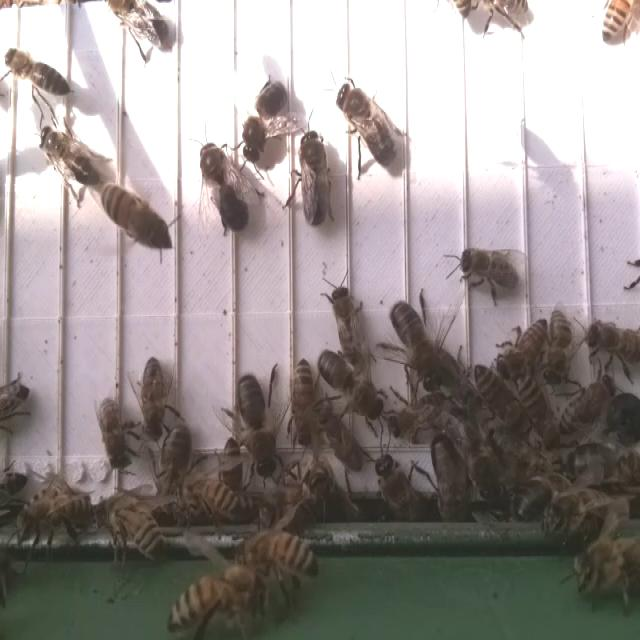Drone: (334, 78, 397, 170), (389, 300, 449, 396), (316, 346, 386, 422), (198, 138, 251, 237), (236, 372, 280, 481), (241, 75, 290, 165), (157, 419, 194, 525), (429, 427, 469, 524), (296, 128, 334, 230)
Worker: (556, 371, 616, 442), (35, 123, 101, 187), (3, 46, 71, 100), (98, 182, 157, 243), (458, 244, 523, 297), (495, 316, 548, 381), (286, 356, 318, 454), (584, 313, 640, 364), (331, 281, 363, 366), (99, 388, 132, 468), (545, 307, 578, 387), (142, 355, 170, 441)
